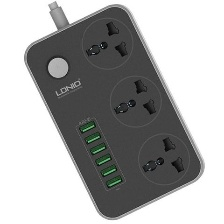three_eye_plug: (21, 1, 207, 221)
